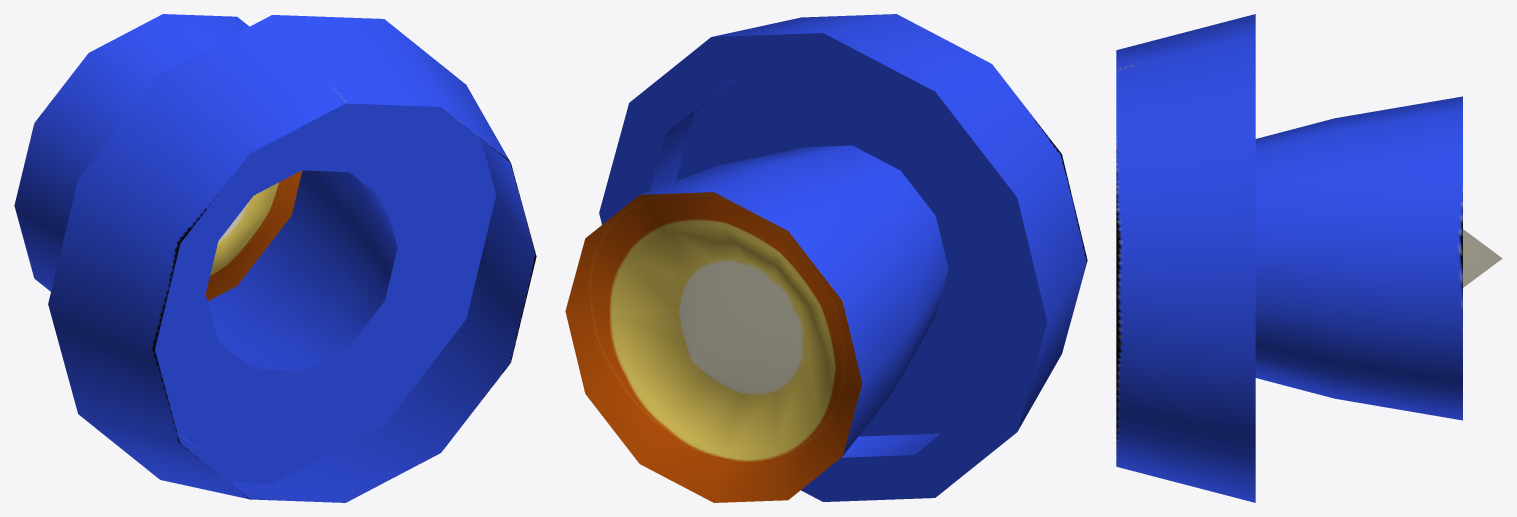
Rendered from spaceshipBooster.fbx.
3 views of the same model, side by side, from view 1: azimuth 30°, elevation 25°; view 2: azimuth 150°, elevation 25°; view 3: azimuth 270°, elevation 25° (orthographic). The views are drawn at different scales.
Visible parts, largest first — view 1: Cylinder001; view 2: Cylinder001; view 3: Cylinder001.
Part boxes in pixels (x1=…): Cylinder001: x1=14, y1=14, x2=536, y2=502; Cylinder001: x1=565, y1=14, x2=1087, y2=502; Cylinder001: x1=1116, y1=14, x2=1502, y2=502.
Size of the model in its own units: 70.45 by 70.45 by 55.47.
